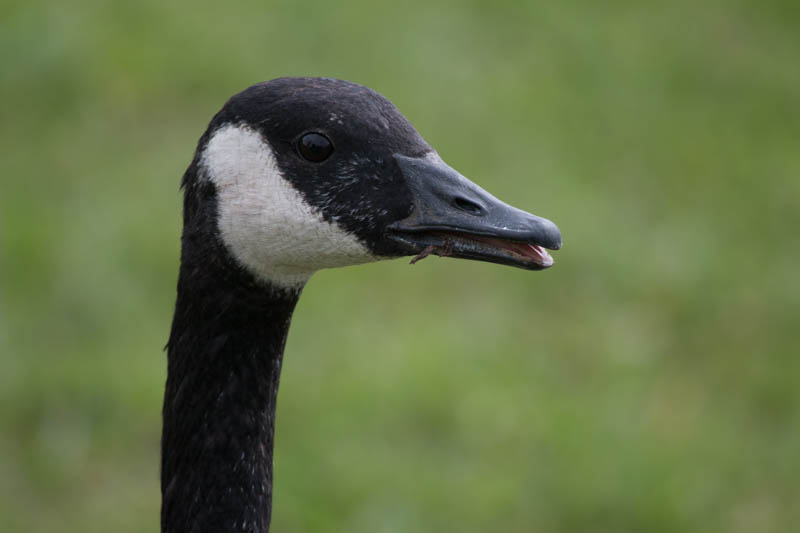goose-head: (183, 78, 563, 294)
